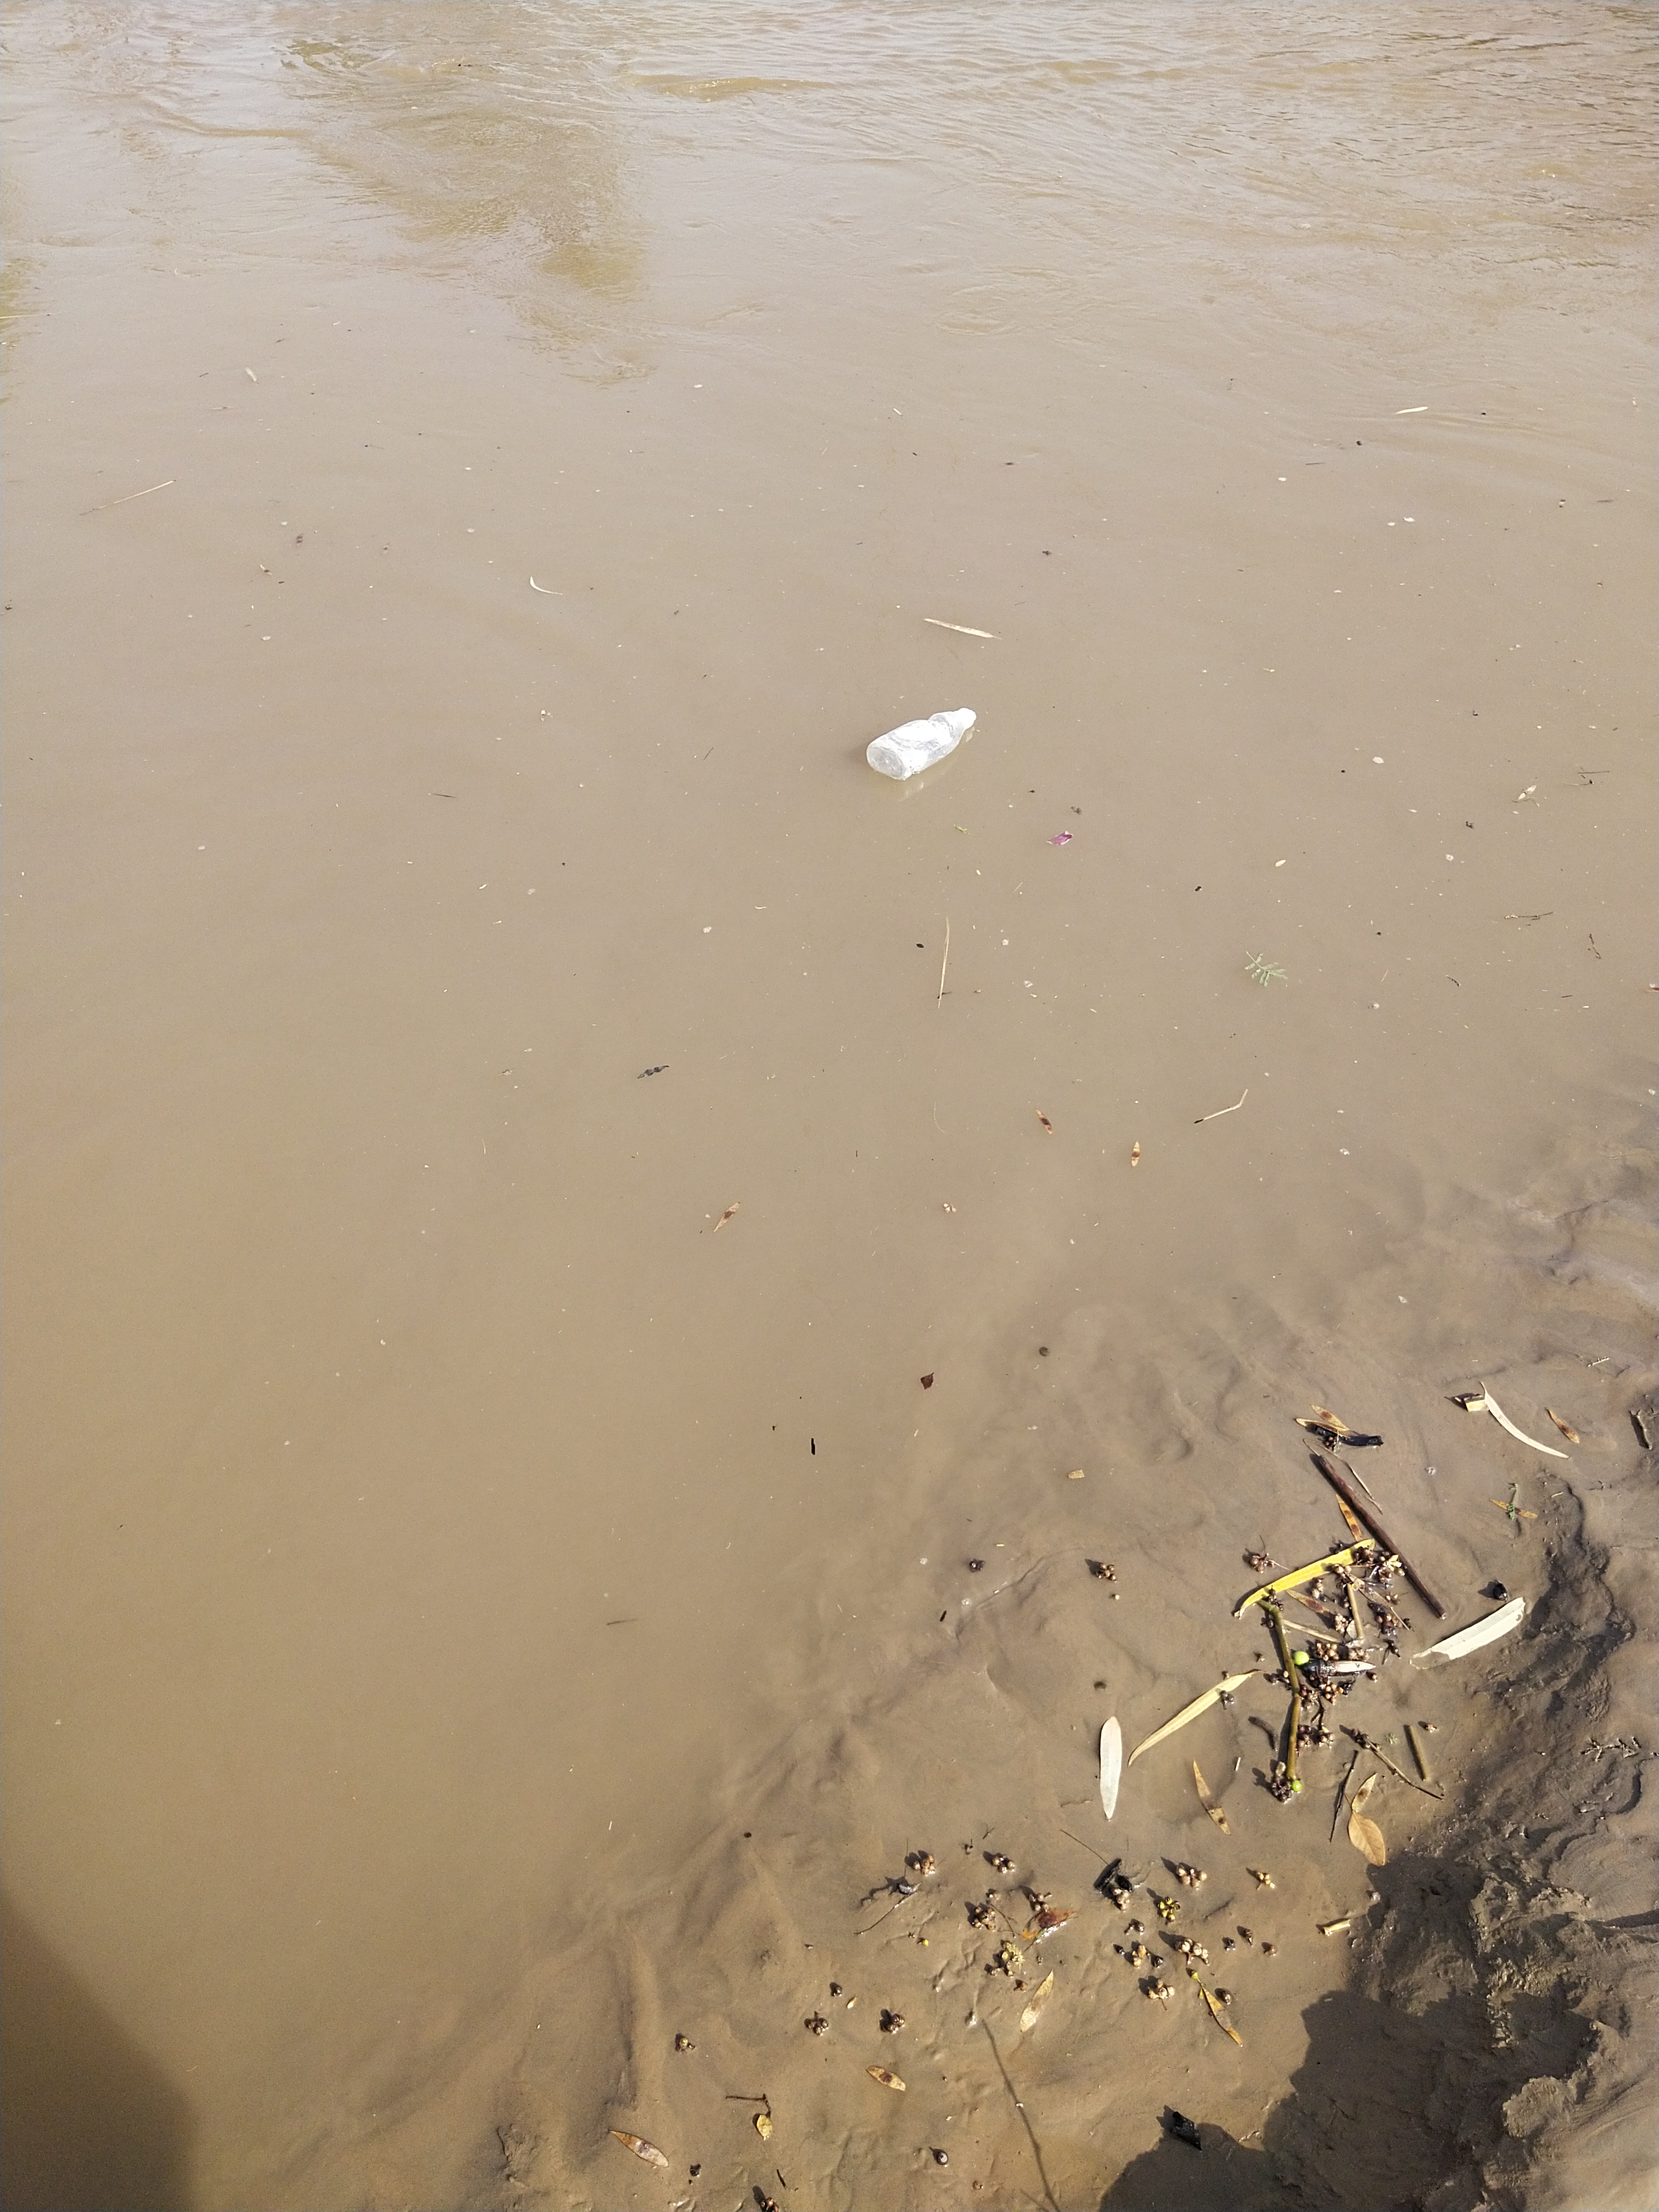Plastic Bottle: (866, 707, 976, 780)
